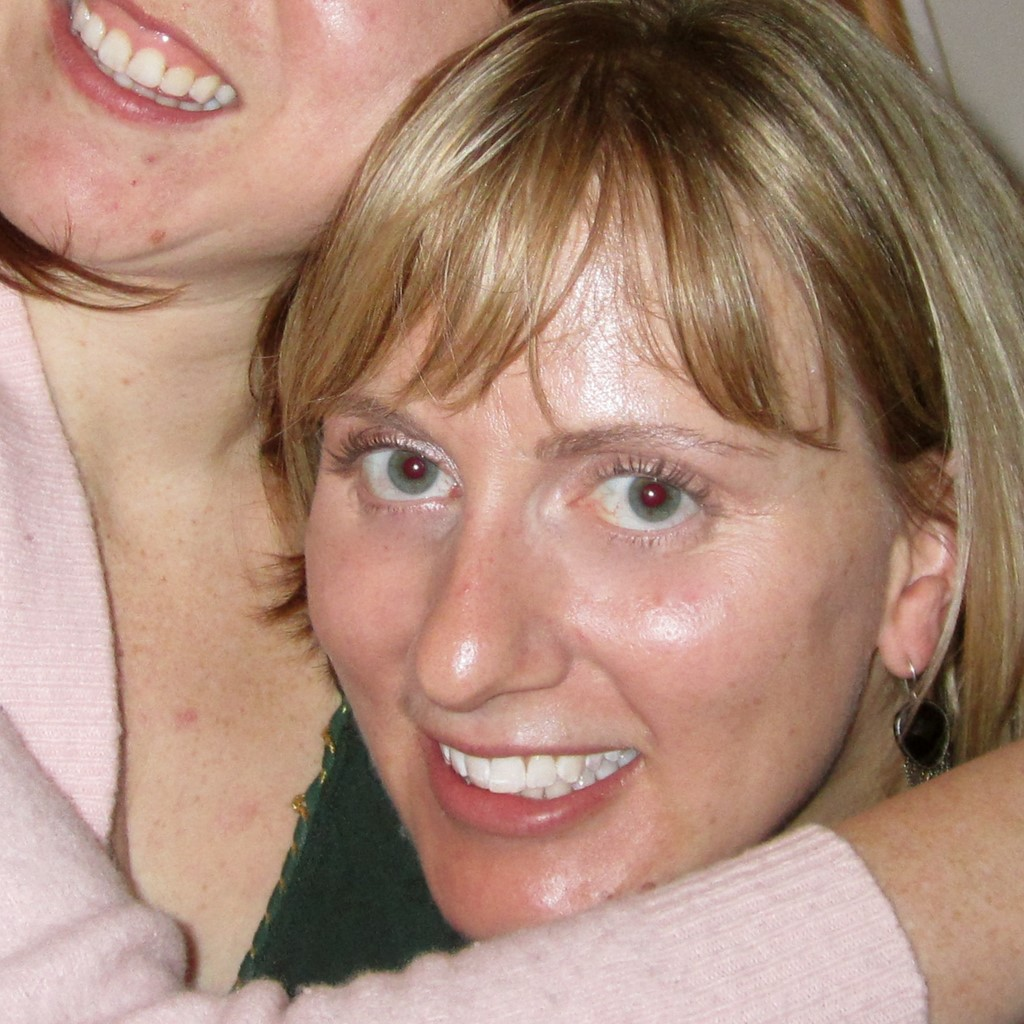sin_mascara: (310, 63, 919, 958)
